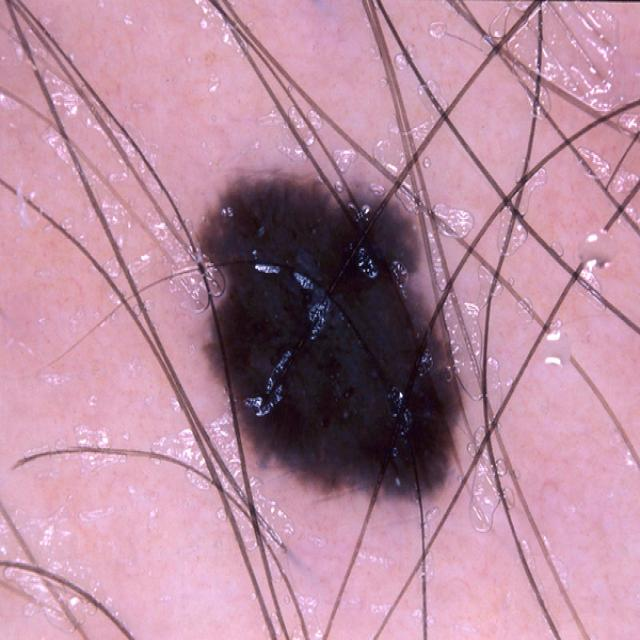NV: (195, 171, 466, 508)
